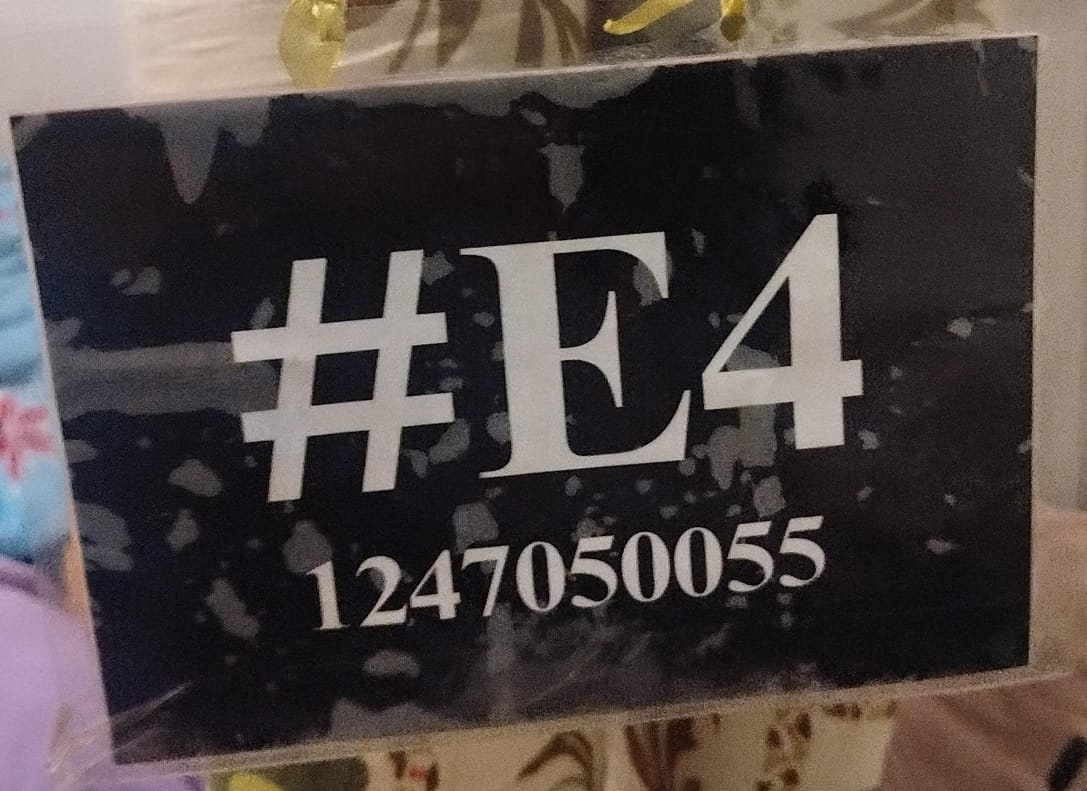nametag_ada: (6, 109, 1066, 662)
